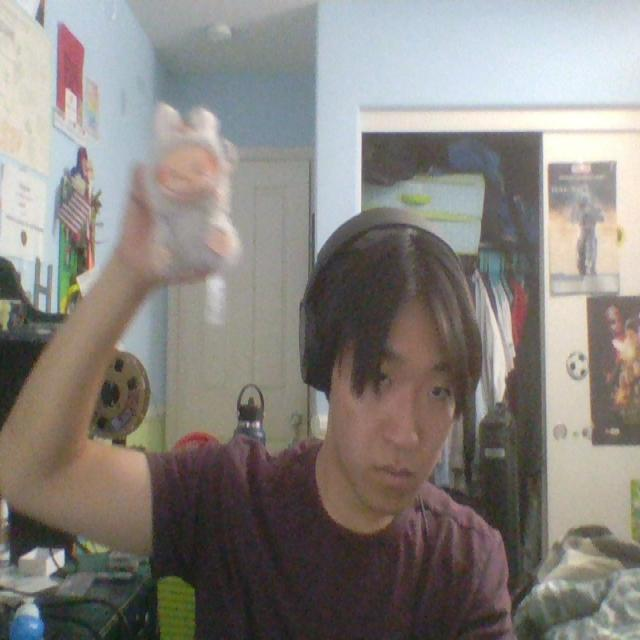labubu: (145, 104, 240, 268)
